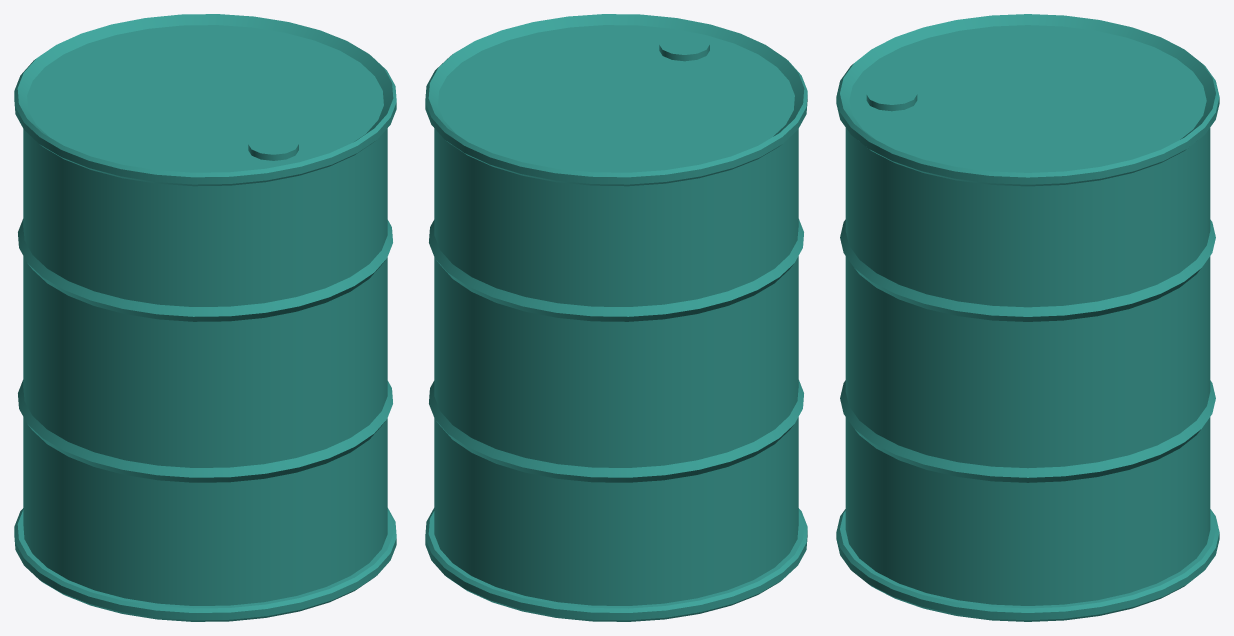
File: Barrel.fbx
3 views of the same model, side by side, from view 1: azimuth 30°, elevation 25°; view 2: azimuth 150°, elevation 25°; view 3: azimuth 270°, elevation 25° (orthographic).
Parts seen in each view (by area): view 1: Barrel; view 2: Barrel; view 3: Barrel.
Boxes of the visible parts, x1=… form: Barrel: x1=14, y1=14, x2=396, y2=621; Barrel: x1=425, y1=14, x2=807, y2=621; Barrel: x1=836, y1=14, x2=1219, y2=621.
Bounding box in the file's own units: 0.4494 × 0.581 × 0.4494.
